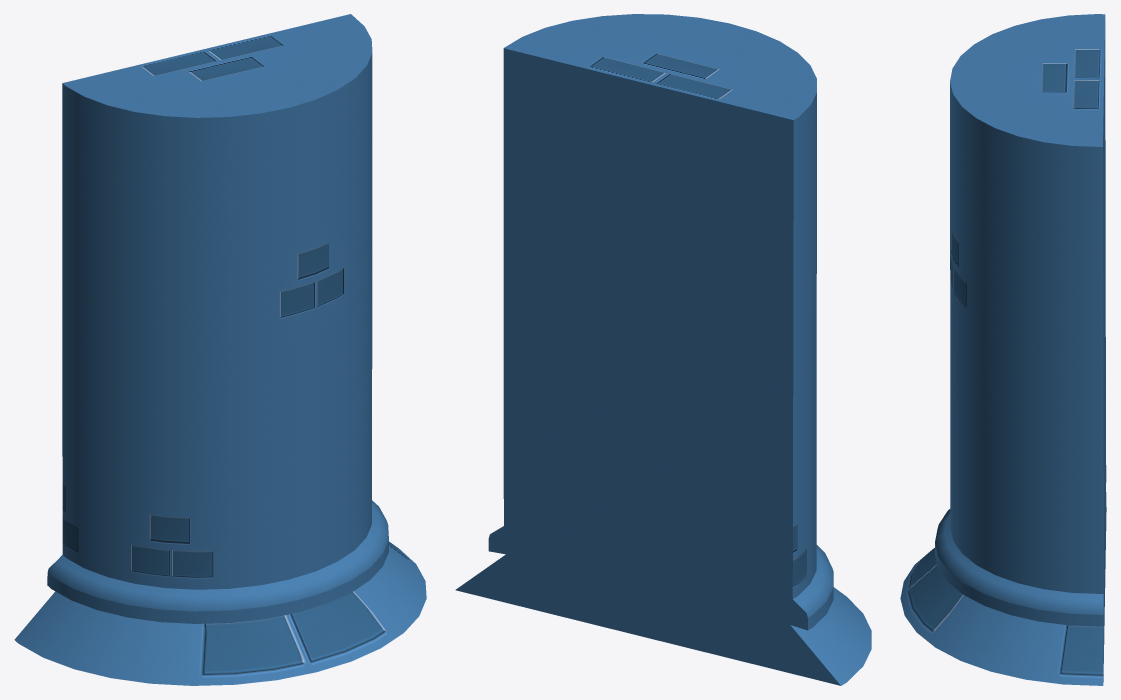
The model's file is Kollona_Polovina.fbx.
3 renders of one model, left to right at view 1: azimuth 30°, elevation 25°; view 2: azimuth 150°, elevation 25°; view 3: azimuth 270°, elevation 25°, orthographic. The views are drawn at different scales.
Parts seen in each view (by area): view 1: Kollona2.02; view 2: Kollona2.02; view 3: Kollona2.02.
Boxes of the visible parts, x1,y1,x2,y2 form: Kollona2.02: (14,14,426,685); Kollona2.02: (455,14,871,685); Kollona2.02: (900,14,1106,685).
Size of the model in its own units: 814 by 1108 by 400.
